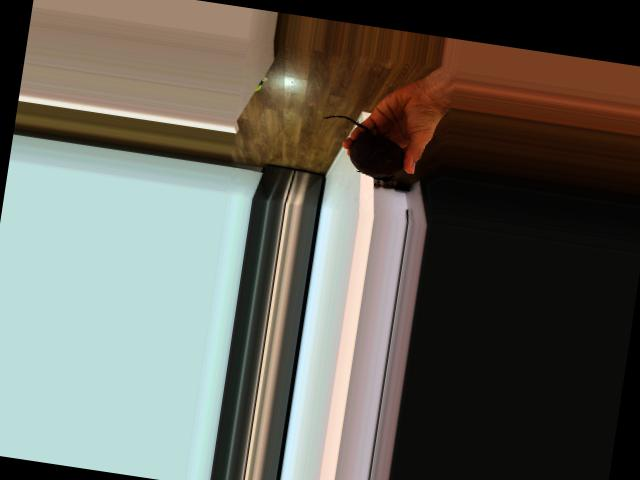beet: (315, 113, 408, 183)
